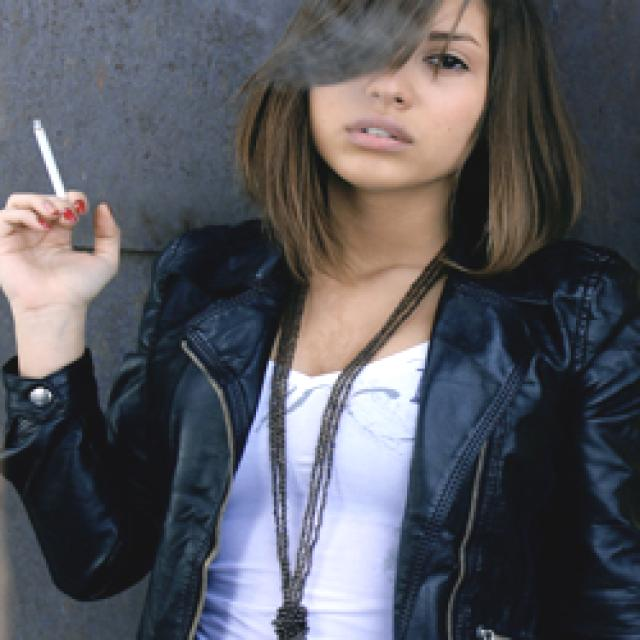Smooking: (22, 114, 76, 203)
